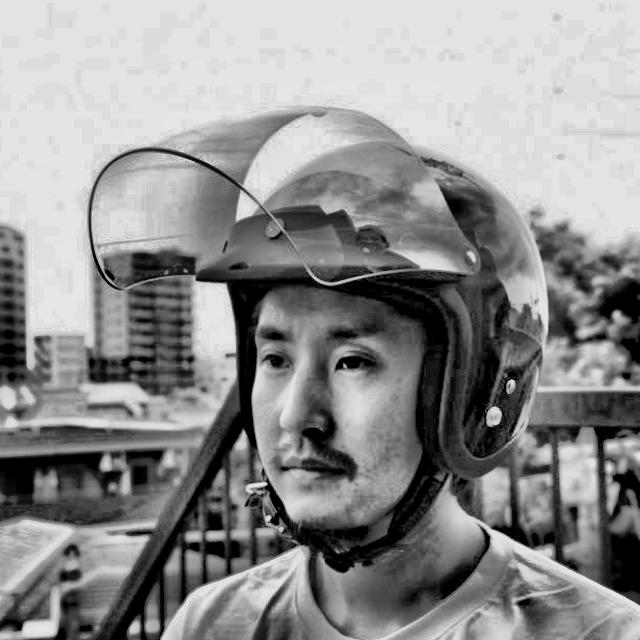Helmet: (75, 93, 558, 581)
